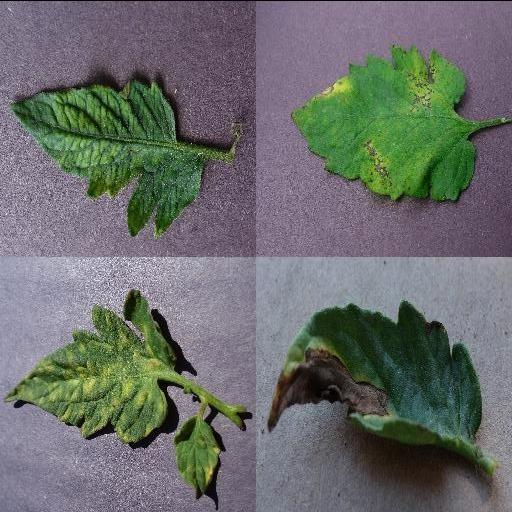Early Blight: (263, 300, 479, 454)
Leaf Mold: (3, 288, 177, 441), (175, 415, 219, 497)
Mosaic Virus: (9, 76, 203, 236)
Septoria: (288, 42, 474, 202)
